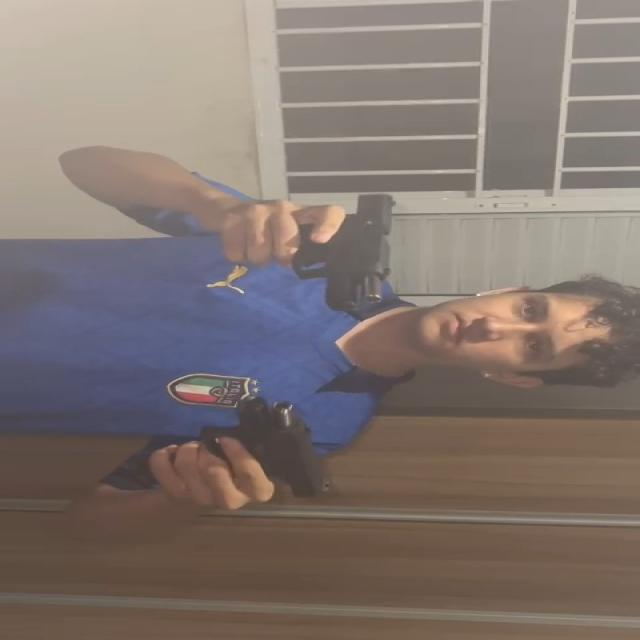guns: (290, 192, 395, 310), (227, 396, 335, 498)
